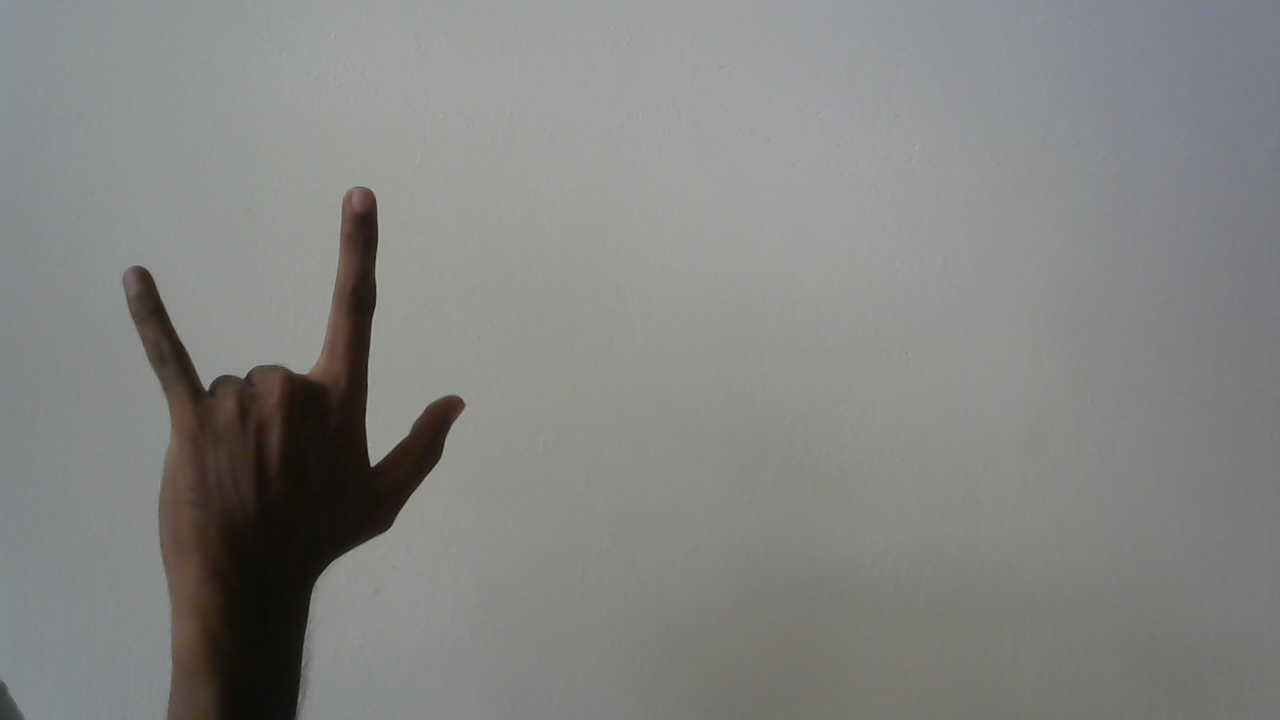iloveyou: (116, 177, 472, 578)
